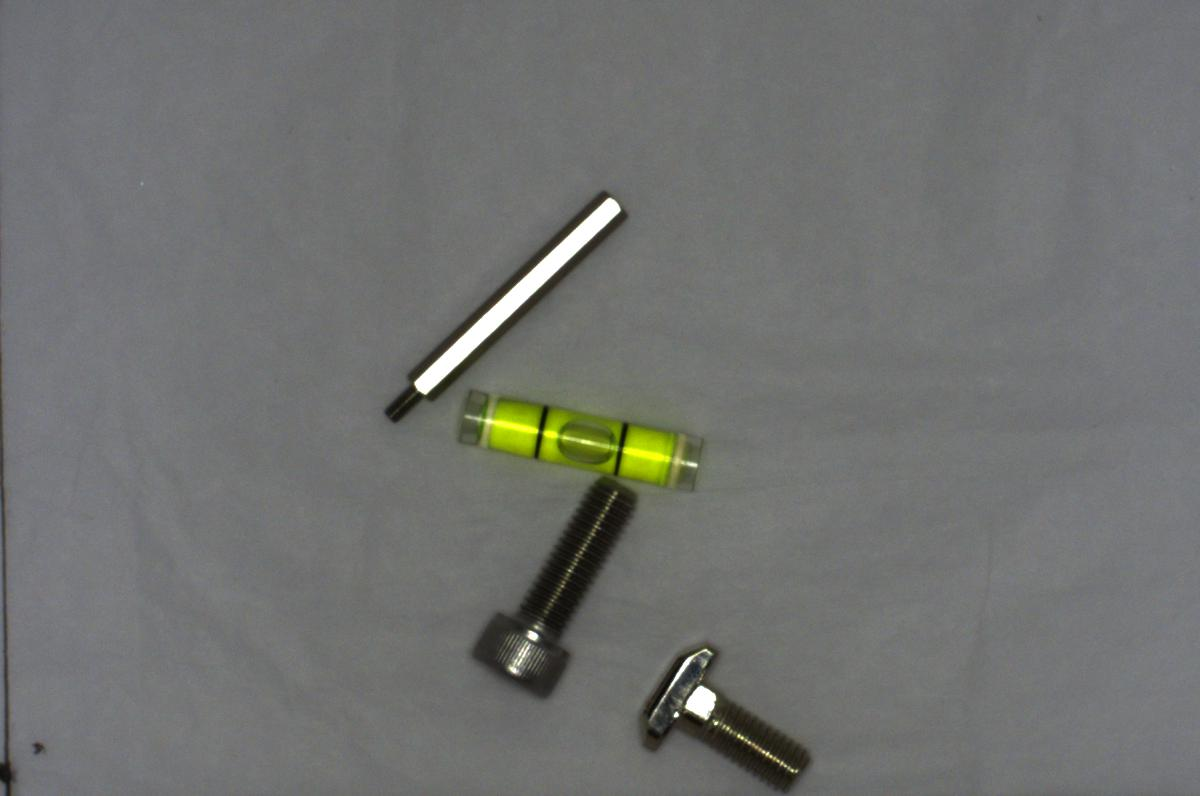Hexagon screw: (458, 468, 640, 702)
Hexagonal steel column: (374, 192, 626, 426)
Horizontal bubble: (453, 382, 702, 489)
T-shaped screw: (633, 641, 814, 788)
